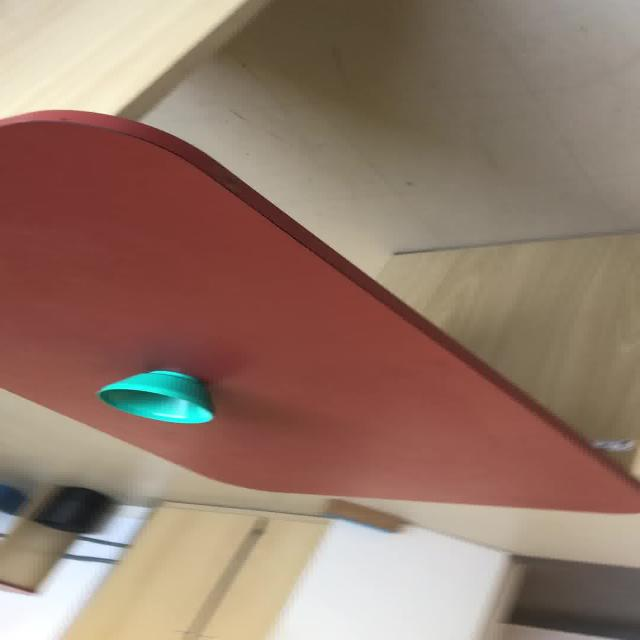bowl: (95, 369, 214, 424)
